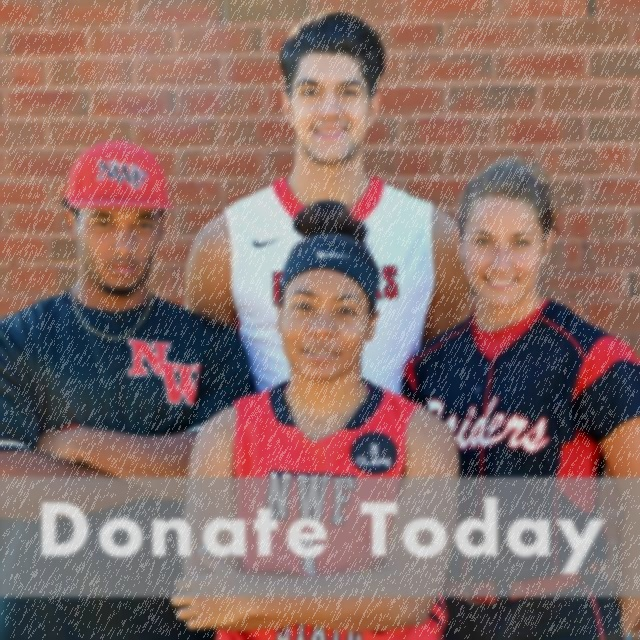pessoa: (163, 193, 473, 639), (0, 135, 259, 640), (176, 4, 474, 395), (402, 156, 640, 640)
